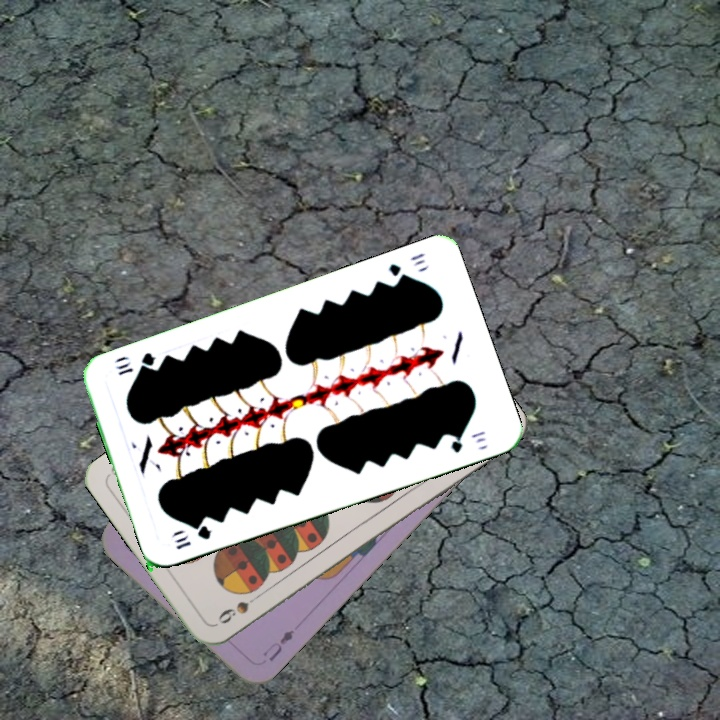EU: (258, 625, 297, 664)
G10: (384, 248, 428, 285), (166, 521, 214, 552)
S9: (214, 589, 265, 627)
